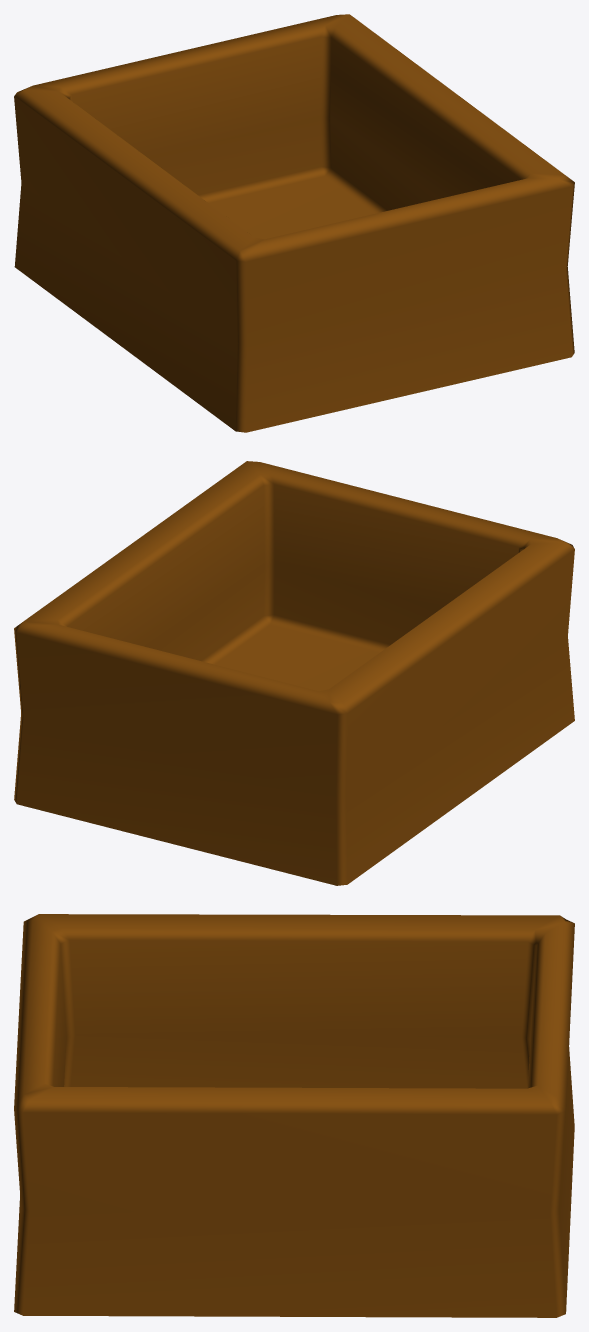
File: Cajon.fbx
3 renders of one model, top to bottom at view 1: azimuth 30°, elevation 25°; view 2: azimuth 150°, elevation 25°; view 3: azimuth 270°, elevation 25°, orthographic. The views are drawn at different scales.
Parts seen in each view (by area): view 1: Cajon; view 2: Cajon; view 3: Cajon.
Part boxes in pixels (x1,y1,x2,y2): Cajon: (14,14,574,432); Cajon: (14,461,574,885); Cajon: (14,914,574,1317).
Size of the model in its own units: 127 by 63.78 by 153.
Materials: 1 (1 with a texture image).
